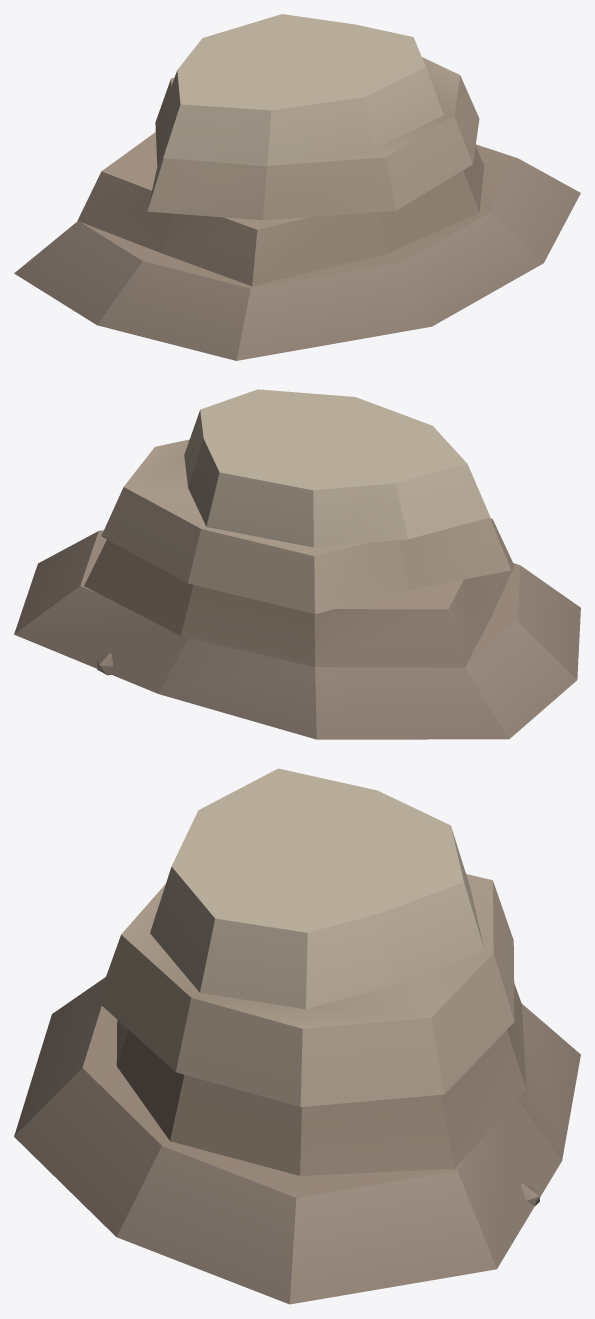
Rendered from mesa_2.glb.
3 renders of one model, top to bottom at view 1: azimuth 30°, elevation 25°; view 2: azimuth 150°, elevation 25°; view 3: azimuth 270°, elevation 25°, orthographic. The views are drawn at different scales.
Parts seen in each view (by area): view 1: mesa_2; view 2: mesa_2; view 3: mesa_2.
Boxes of the visible parts, box(x1,y1,x2,y2) form: mesa_2: box(14, 14, 580, 360); mesa_2: box(14, 389, 580, 739); mesa_2: box(14, 768, 580, 1304).
Size of the model in its own units: 106 by 38.58 by 74.21.
